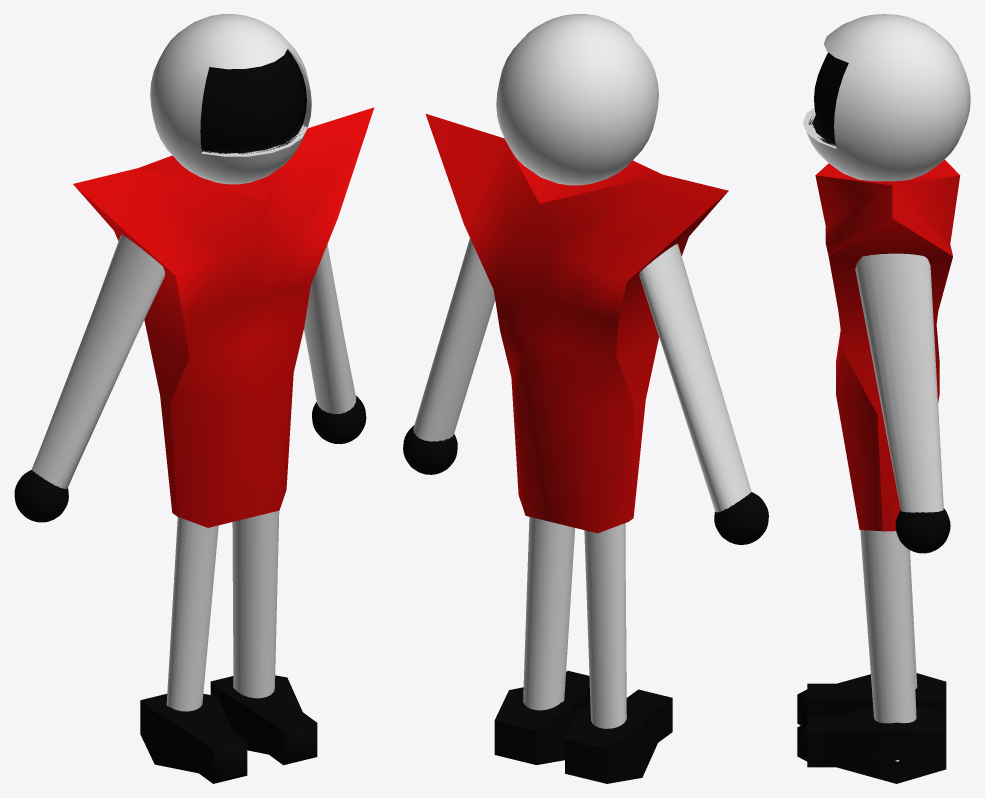
The model's file is Astro.fbx.
3 views of the same model, side by side, from view 1: azimuth 30°, elevation 25°; view 2: azimuth 150°, elevation 25°; view 3: azimuth 270°, elevation 25° (orthographic).
Parts seen in each view (by area): view 1: pCube2, pSphere1, pCylinder4, pSphere4, pCylinder2, pCylinder1, pCube4, pCube3, pCylinder3, pSphere2, pSphere3; view 2: pCube2, pSphere1, pCylinder4, pCylinder2, pCylinder1, pCylinder3, pCube4, pCube3, pSphere2, pSphere3; view 3: pCube2, pSphere1, pCylinder3, pCylinder2, pCube3, pCube4, pSphere4, pSphere3.
Boxes of the visible parts, <box> form: pCube2: <box>73,107,374,527</box>; pSphere1: <box>150,14,311,184</box>; pCylinder4: <box>31,234,164,488</box>; pSphere4: <box>200,49,306,154</box>; pCylinder2: <box>232,510,279,698</box>; pCylinder1: <box>166,517,218,711</box>; pCube4: <box>140,693,247,783</box>; pCube3: <box>210,675,317,765</box>; pCylinder3: <box>304,244,356,414</box>; pSphere2: <box>14,470,68,522</box>; pSphere3: <box>312,395,366,443</box>; pCube2: <box>425,114,728,533</box>; pSphere1: <box>496,14,658,185</box>; pCylinder4: <box>639,243,751,512</box>; pCylinder2: <box>523,517,574,710</box>; pCylinder1: <box>584,523,626,728</box>; pCylinder3: <box>413,238,495,441</box>; pCube4: <box>565,689,672,783</box>; pCube3: <box>494,670,590,764</box>; pSphere2: <box>714,492,768,544</box>; pSphere3: <box>403,425,457,474</box>; pCube2: <box>815,159,960,531</box>; pSphere1: <box>803,14,970,181</box>; pCylinder3: <box>855,253,943,512</box>; pCylinder2: <box>860,530,916,761</box>; pCube3: <box>797,705,946,783</box>; pCube4: <box>797,673,946,725</box>; pSphere4: <box>808,52,848,146</box>; pSphere3: <box>895,508,950,553</box>.
Size of the model in its own units: 93.78 by 187 by 40.
